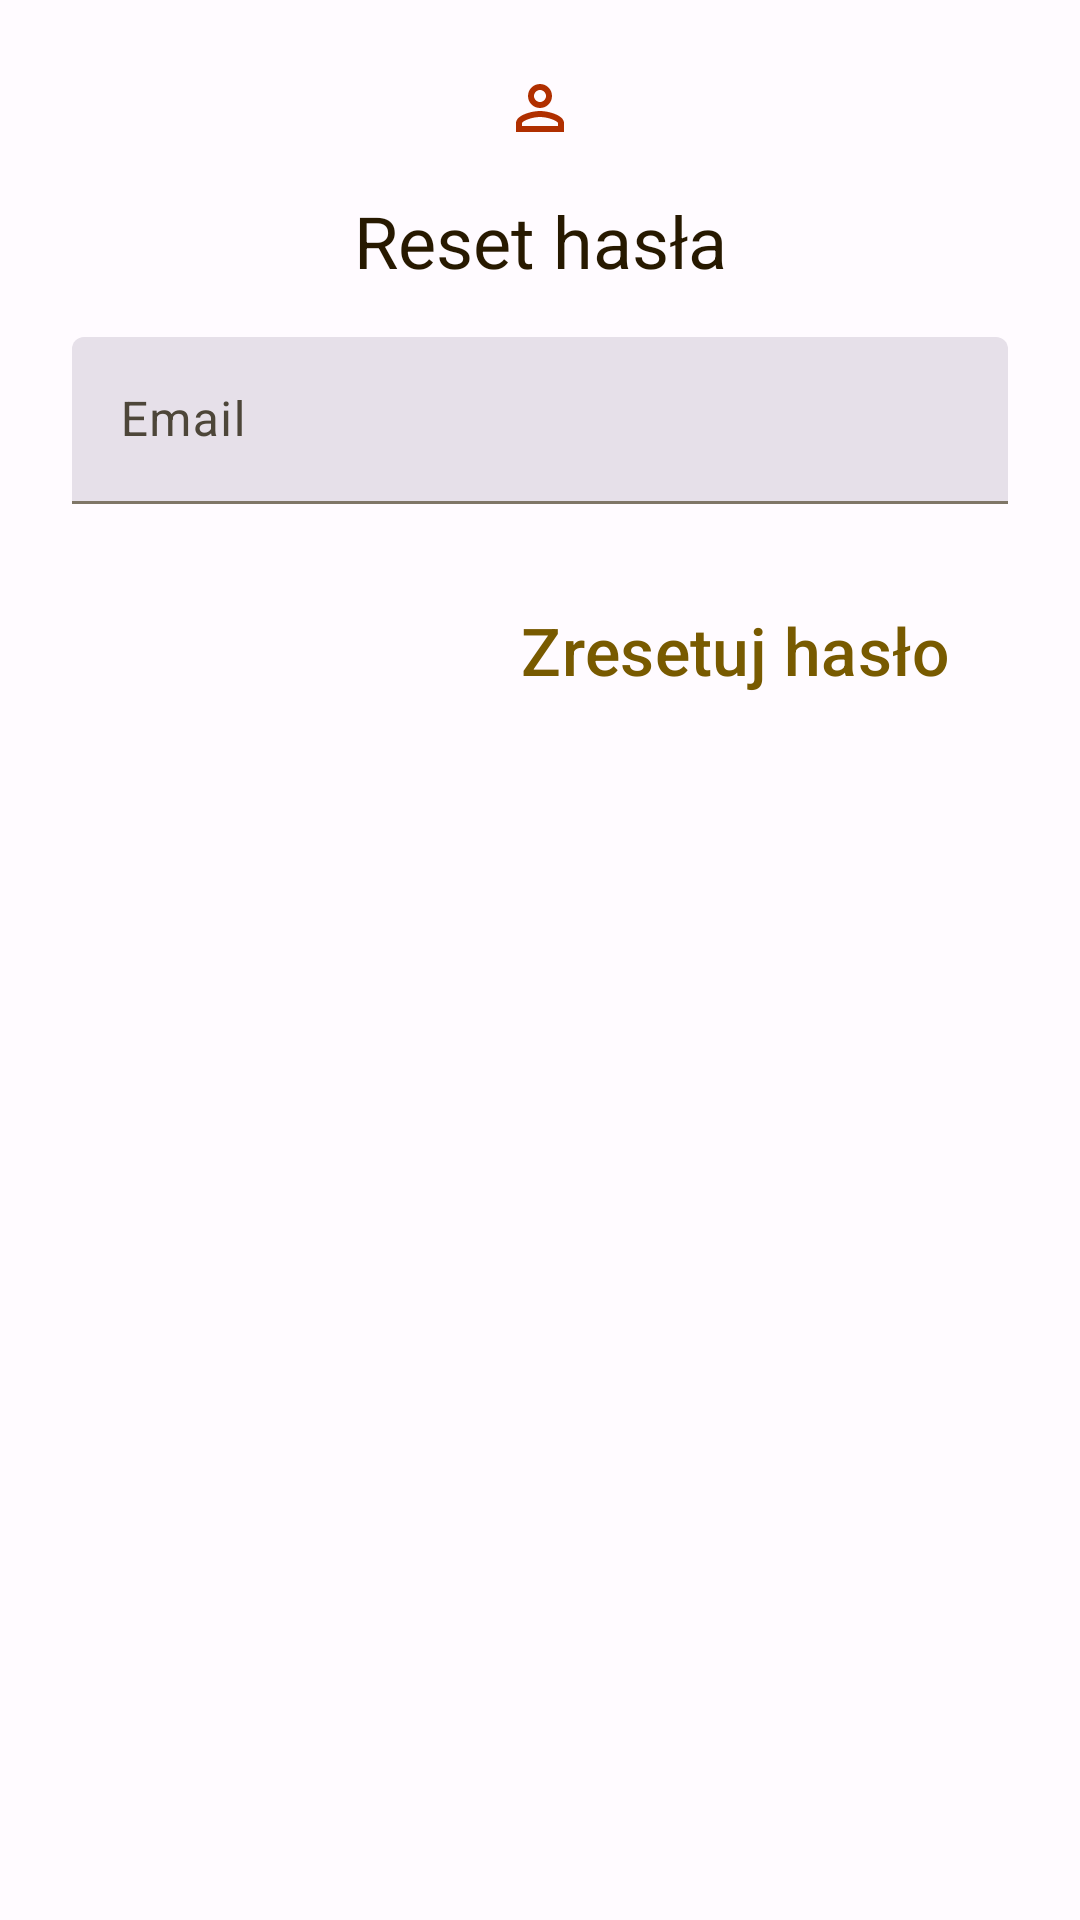

Point at icon controls on the screen. Image size 1080 × 1920, points as (x,y).
person: (540,108)
